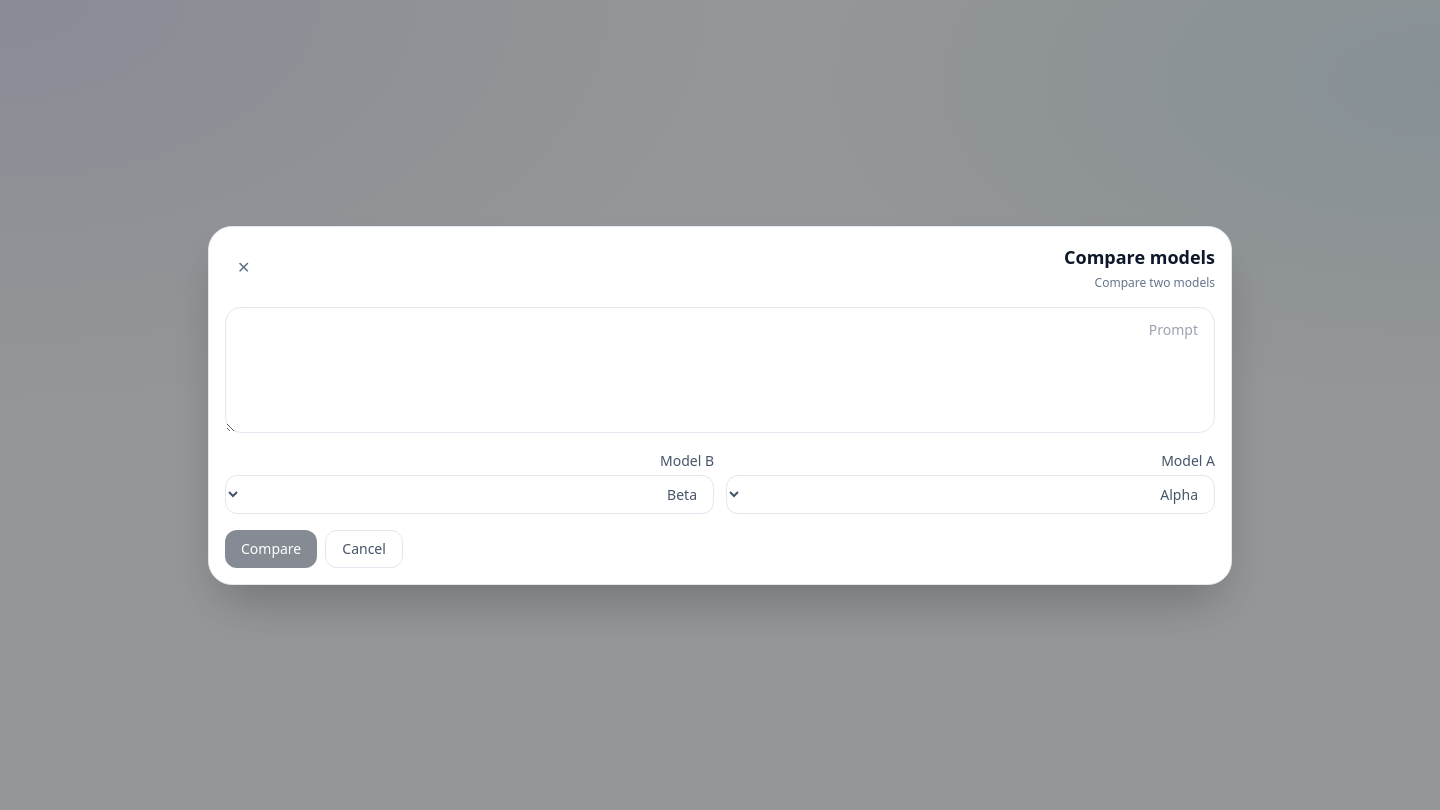
Scenario: ModelCompareDialog › renders comparison results
The width and height of the screenshot is (1440, 810).
Type "Hello" into the text box with placeholder "Prompt" at [720, 370], box x1=225 y1=306 x2=1215 y2=432
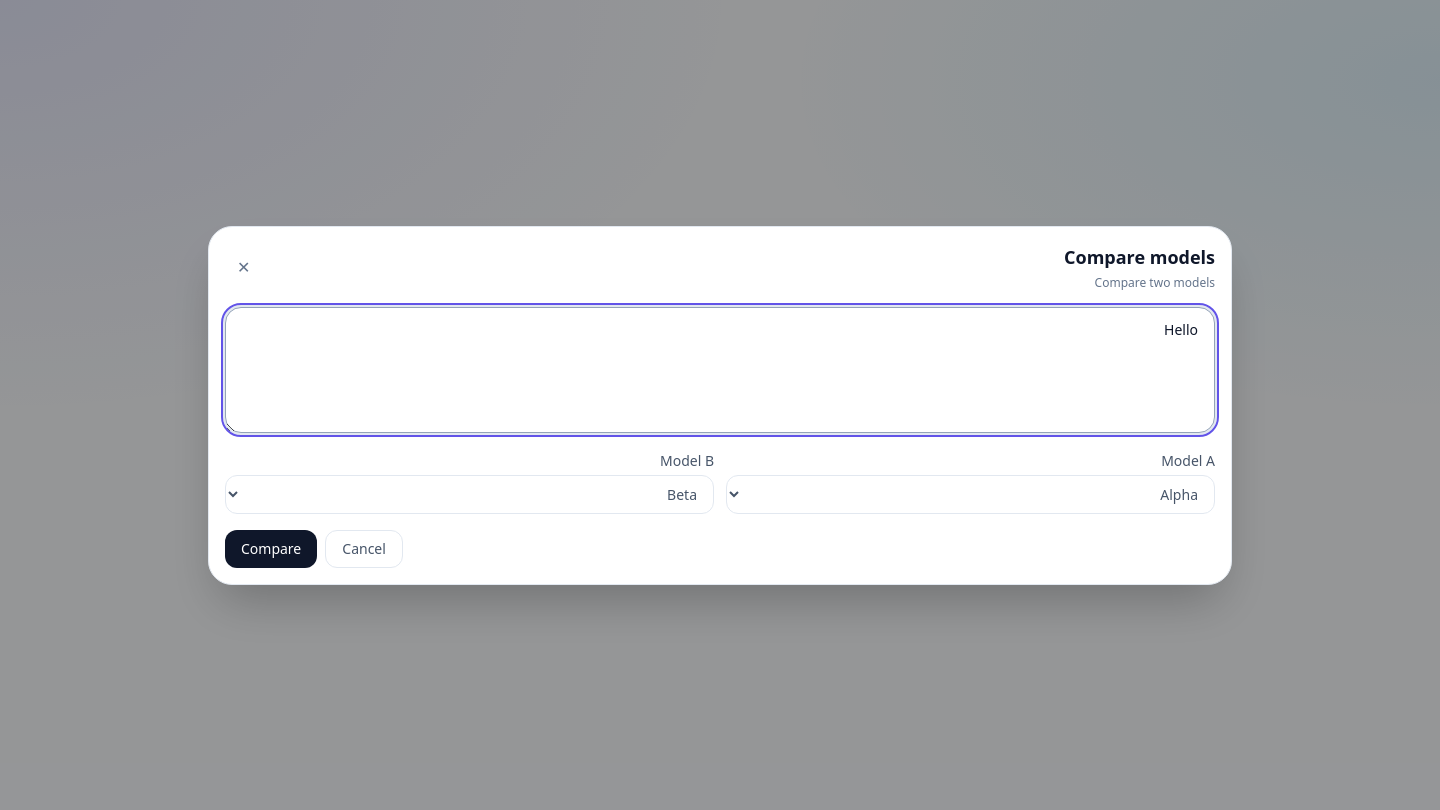
Click the button "Compare" at [271, 548], box x1=225 y1=530 x2=317 y2=568
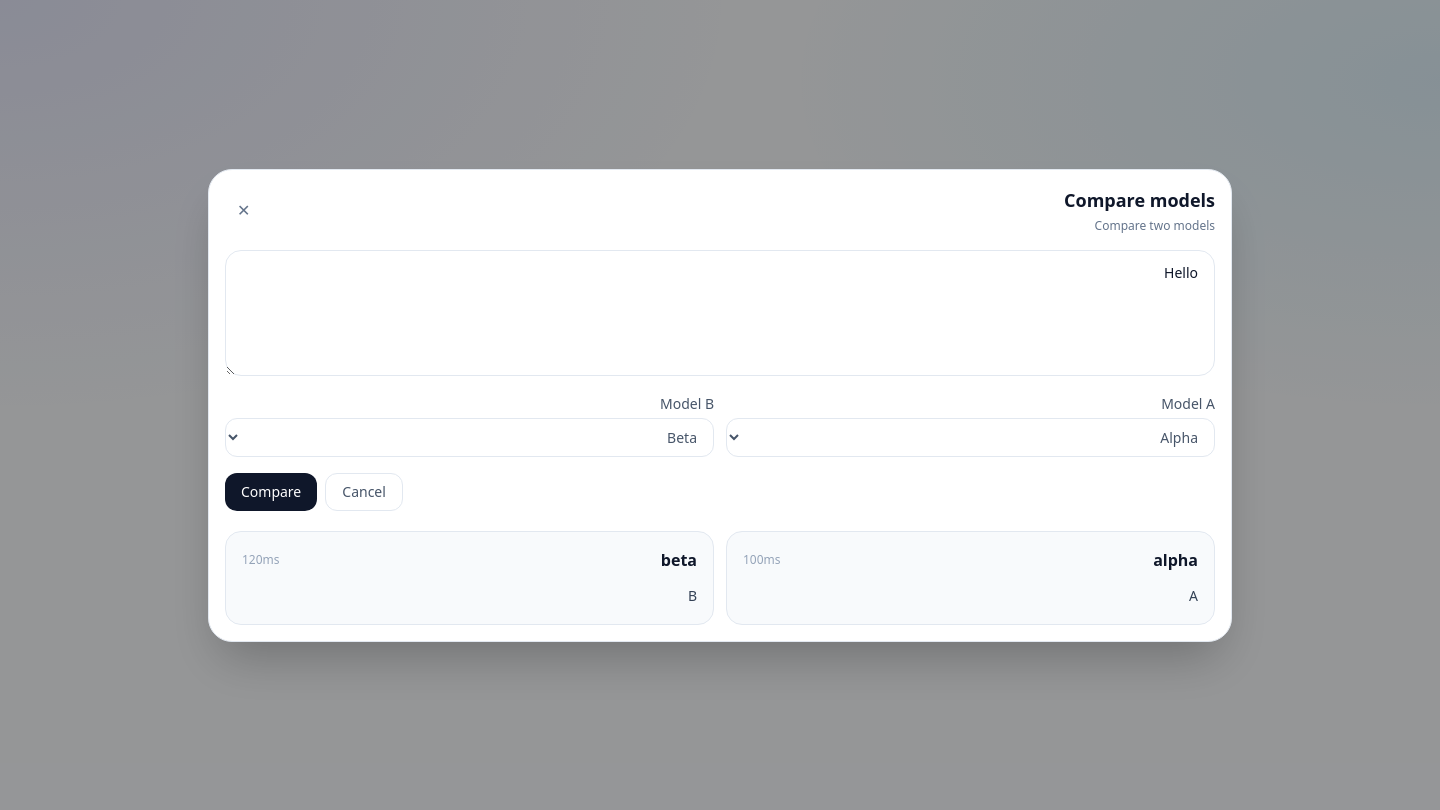
Check: the text "A" is shown, box x1=1189 y1=586 x2=1198 y2=604
Check: the text "B" is shown, box x1=688 y1=586 x2=697 y2=604
